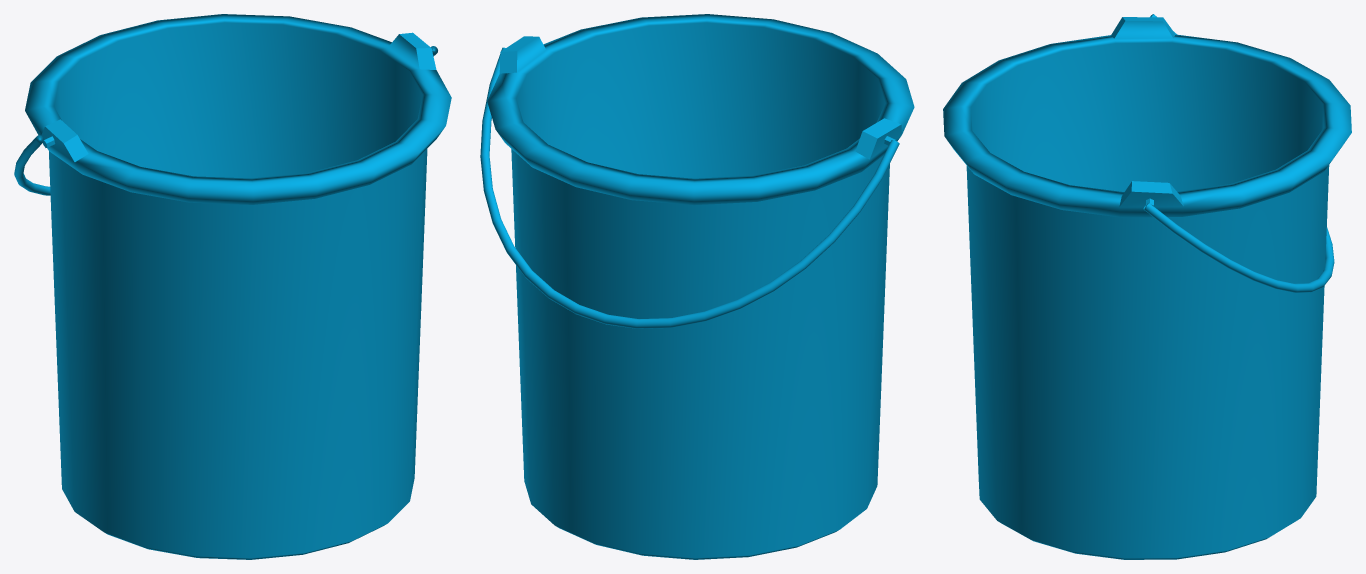
Rendered from Bucket_02_Lod0.fbx.
3 views of the same model, side by side, from view 1: azimuth 30°, elevation 25°; view 2: azimuth 150°, elevation 25°; view 3: azimuth 270°, elevation 25° (orthographic). The views are drawn at different scales.
Visible parts, largest first — view 1: Bucket_02_Lod0; view 2: Bucket_02_Lod0; view 3: Bucket_02_Lod0.
Part boxes in pixels (bbox=[...]): Bucket_02_Lod0: bbox=[14, 14, 451, 559]; Bucket_02_Lod0: bbox=[480, 14, 914, 559]; Bucket_02_Lod0: bbox=[943, 14, 1351, 559].
Size of the model in its own units: 34.53 by 33.38 by 31.74.
